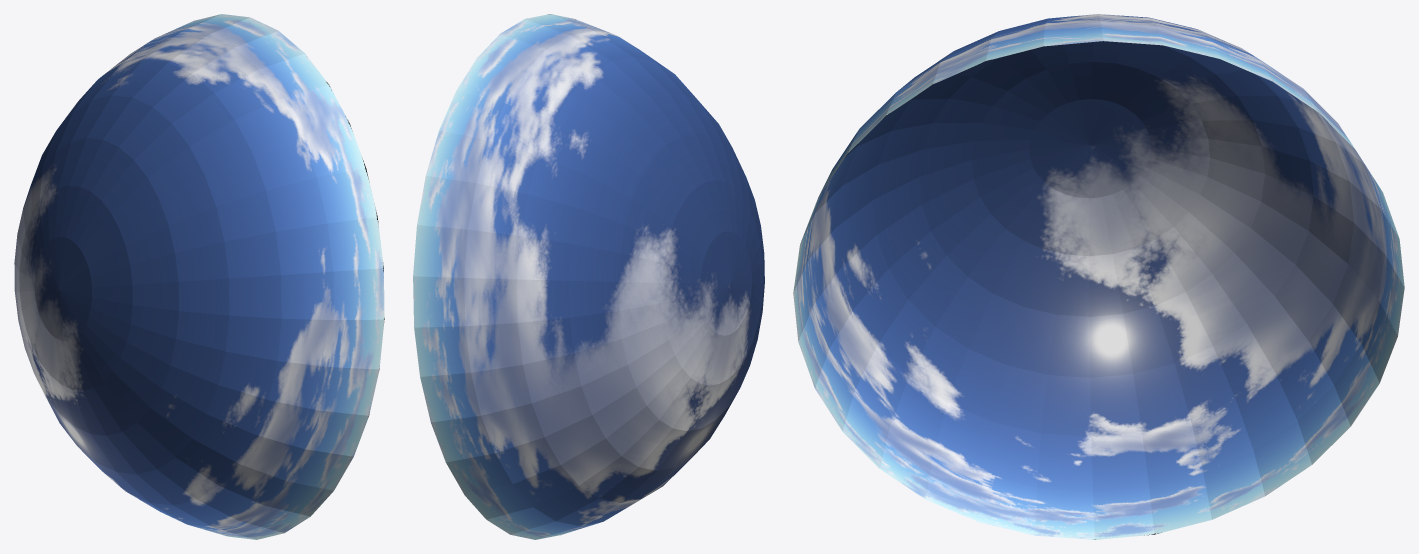
File: skydome.obj
The picture shows the model from 3 angles, left to right: view 1: azimuth 30°, elevation 25°; view 2: azimuth 150°, elevation 25°; view 3: azimuth 270°, elevation 25°; orthographic projection. The views are drawn at different scales.
Visible parts, largest first — view 1: Sphere; view 2: Sphere; view 3: Sphere.
Part boxes in pixels (box(x1,y1,x2,y2)): Sphere: box(14, 14, 384, 539); Sphere: box(413, 14, 764, 539); Sphere: box(793, 14, 1404, 539).
Size of the model in its own units: 0.9885 by 1.93 by 1.96.
1 material, 1 textured.
